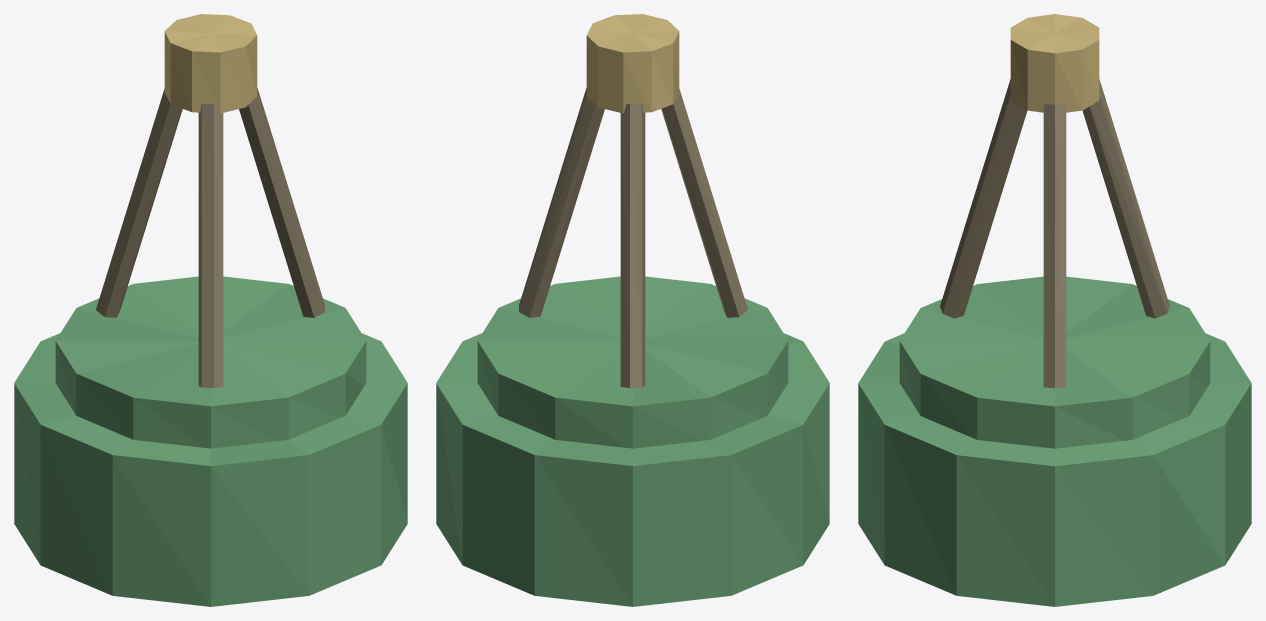
Rendered from buoy_green.glb.
3 views of the same model, side by side, from view 1: azimuth 30°, elevation 25°; view 2: azimuth 150°, elevation 25°; view 3: azimuth 270°, elevation 25° (orthographic).
Parts seen in each view (by area): view 1: base, upper, light, strut_2, strut_0, strut_1; view 2: base, upper, light, strut_1, strut_0, strut_2; view 3: base, upper, light, strut_0, strut_1, strut_2.
Boxes of the visible parts, x1,y1,x2,y2 form: base: (14,333,407,606); upper: (55,276,366,448); light: (164,14,257,113); strut_2: (198,103,223,388); strut_0: (239,88,324,317); strut_1: (96,89,182,317); base: (436,333,829,606); upper: (477,276,788,448); light: (586,14,679,113); strut_1: (620,103,645,388); strut_0: (519,88,604,317); strut_2: (661,89,747,317); base: (858,333,1251,606); upper: (899,276,1210,448); light: (1010,14,1099,112); strut_0: (1043,104,1066,388); strut_1: (1082,79,1169,318); strut_2: (940,79,1027,318).
Bounding box in the file's own units: 0.76 × 1.04 × 0.76.
